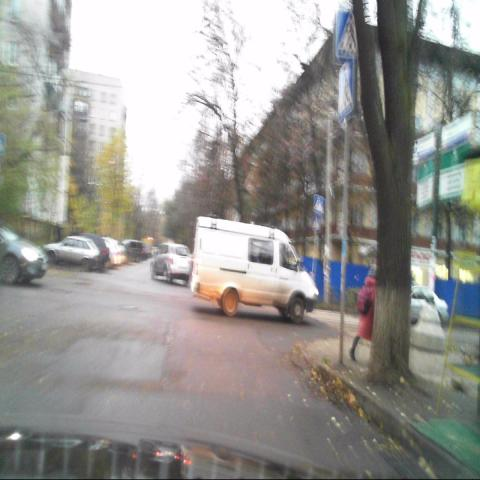5_19_1: (335, 12, 361, 61)
